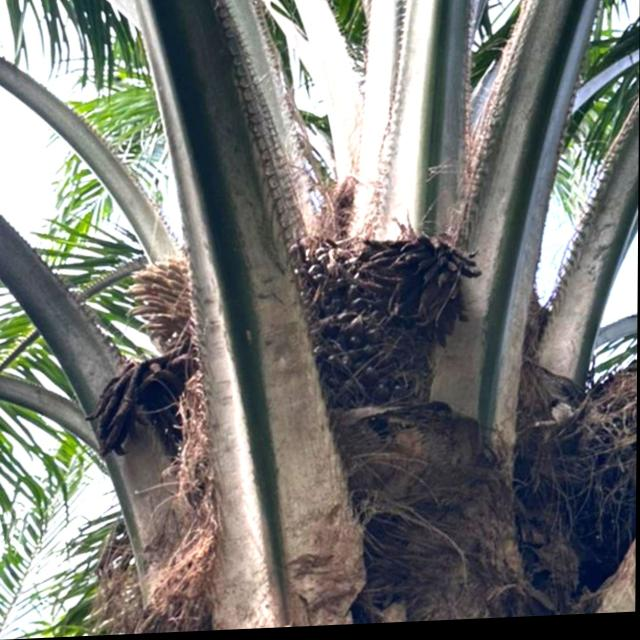ripe: (290, 229, 434, 426)
